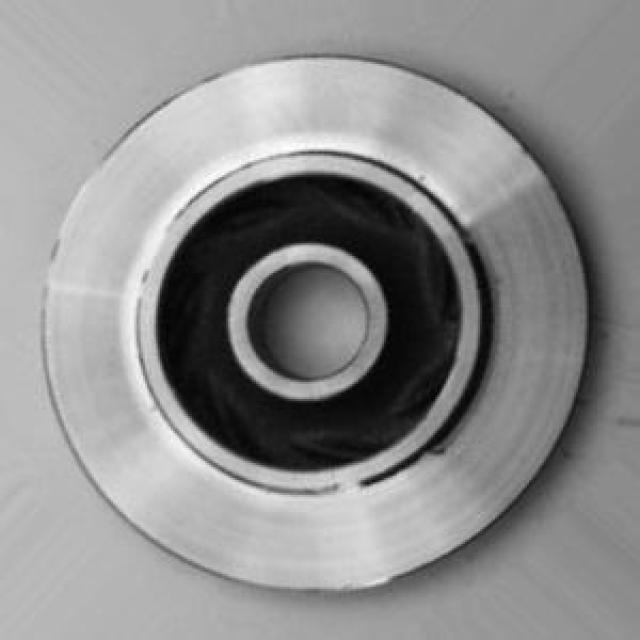Defect: (428, 440, 456, 461)
